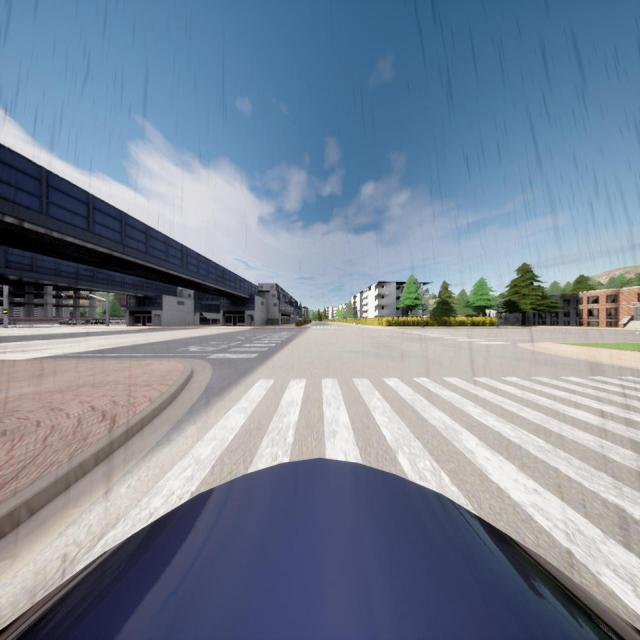Vehicle: (0, 456, 640, 640), (0, 318, 16, 325), (68, 318, 76, 326), (82, 318, 90, 326), (97, 318, 105, 325), (91, 317, 97, 325), (60, 319, 66, 325), (80, 320, 84, 325)
traffic_light: (3, 308, 8, 314), (63, 294, 65, 300), (104, 309, 106, 314), (73, 295, 75, 299), (85, 296, 86, 299)
